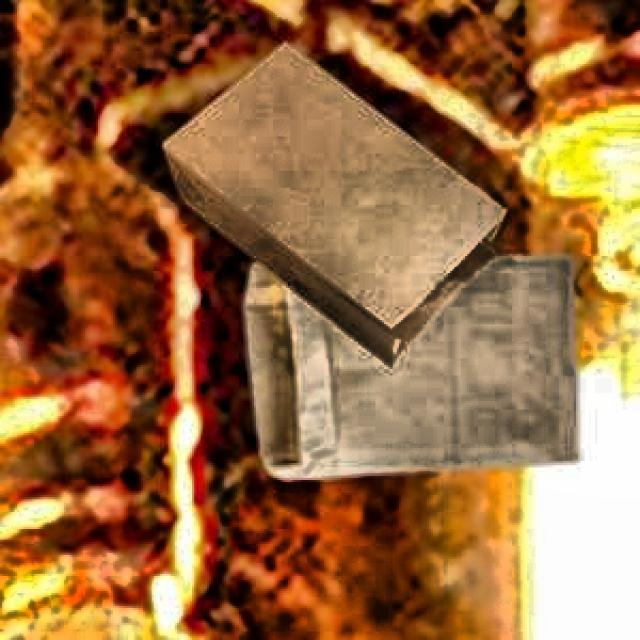Paper-bag: (149, 42, 497, 374), (234, 240, 613, 480)
